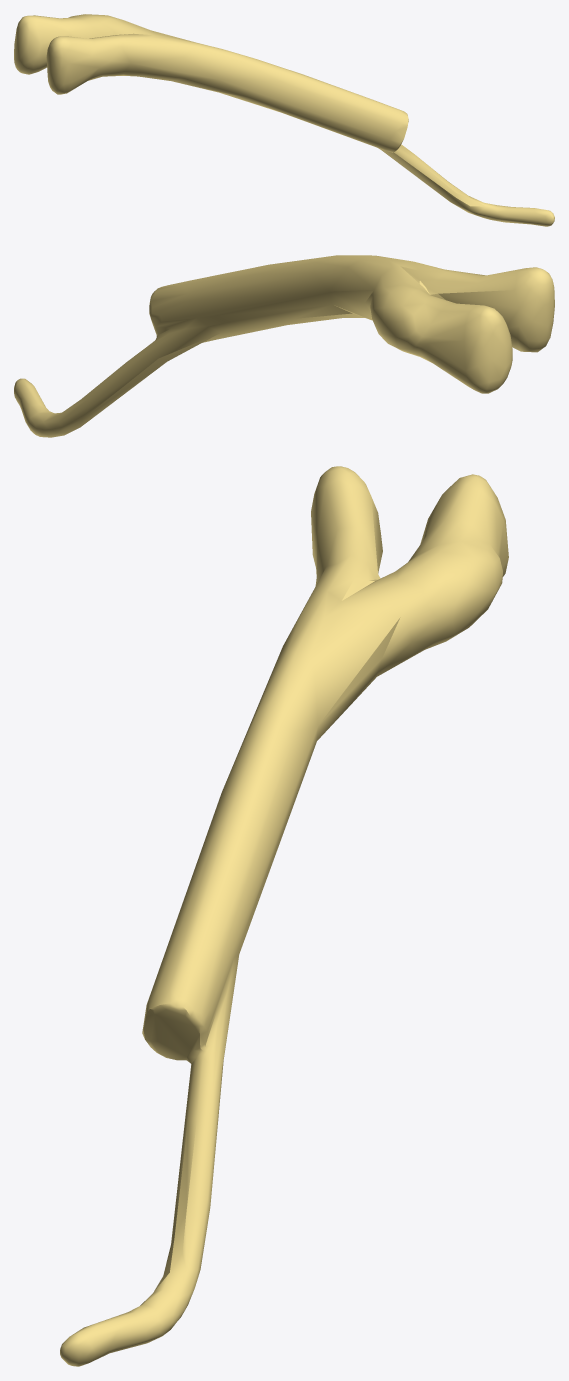
Rendered from fma7015_fj4267.glb.
3 views of the same model, one above another, from view 1: azimuth 30°, elevation 25°; view 2: azimuth 150°, elevation 25°; view 3: azimuth 270°, elevation 25° (orthographic). The views are drawn at different scales.
Parts seen in each view (by area): view 1: FMA7015_FJ4267; view 2: FMA7015_FJ4267; view 3: FMA7015_FJ4267.
Part boxes in pixels (x1,y1,x2,y2): FMA7015_FJ4267: (14,14,554,226); FMA7015_FJ4267: (14,255,554,437); FMA7015_FJ4267: (60,466,508,1366).
Bounding box in the file's own units: 0.0451 × 0.024 × 0.02.
